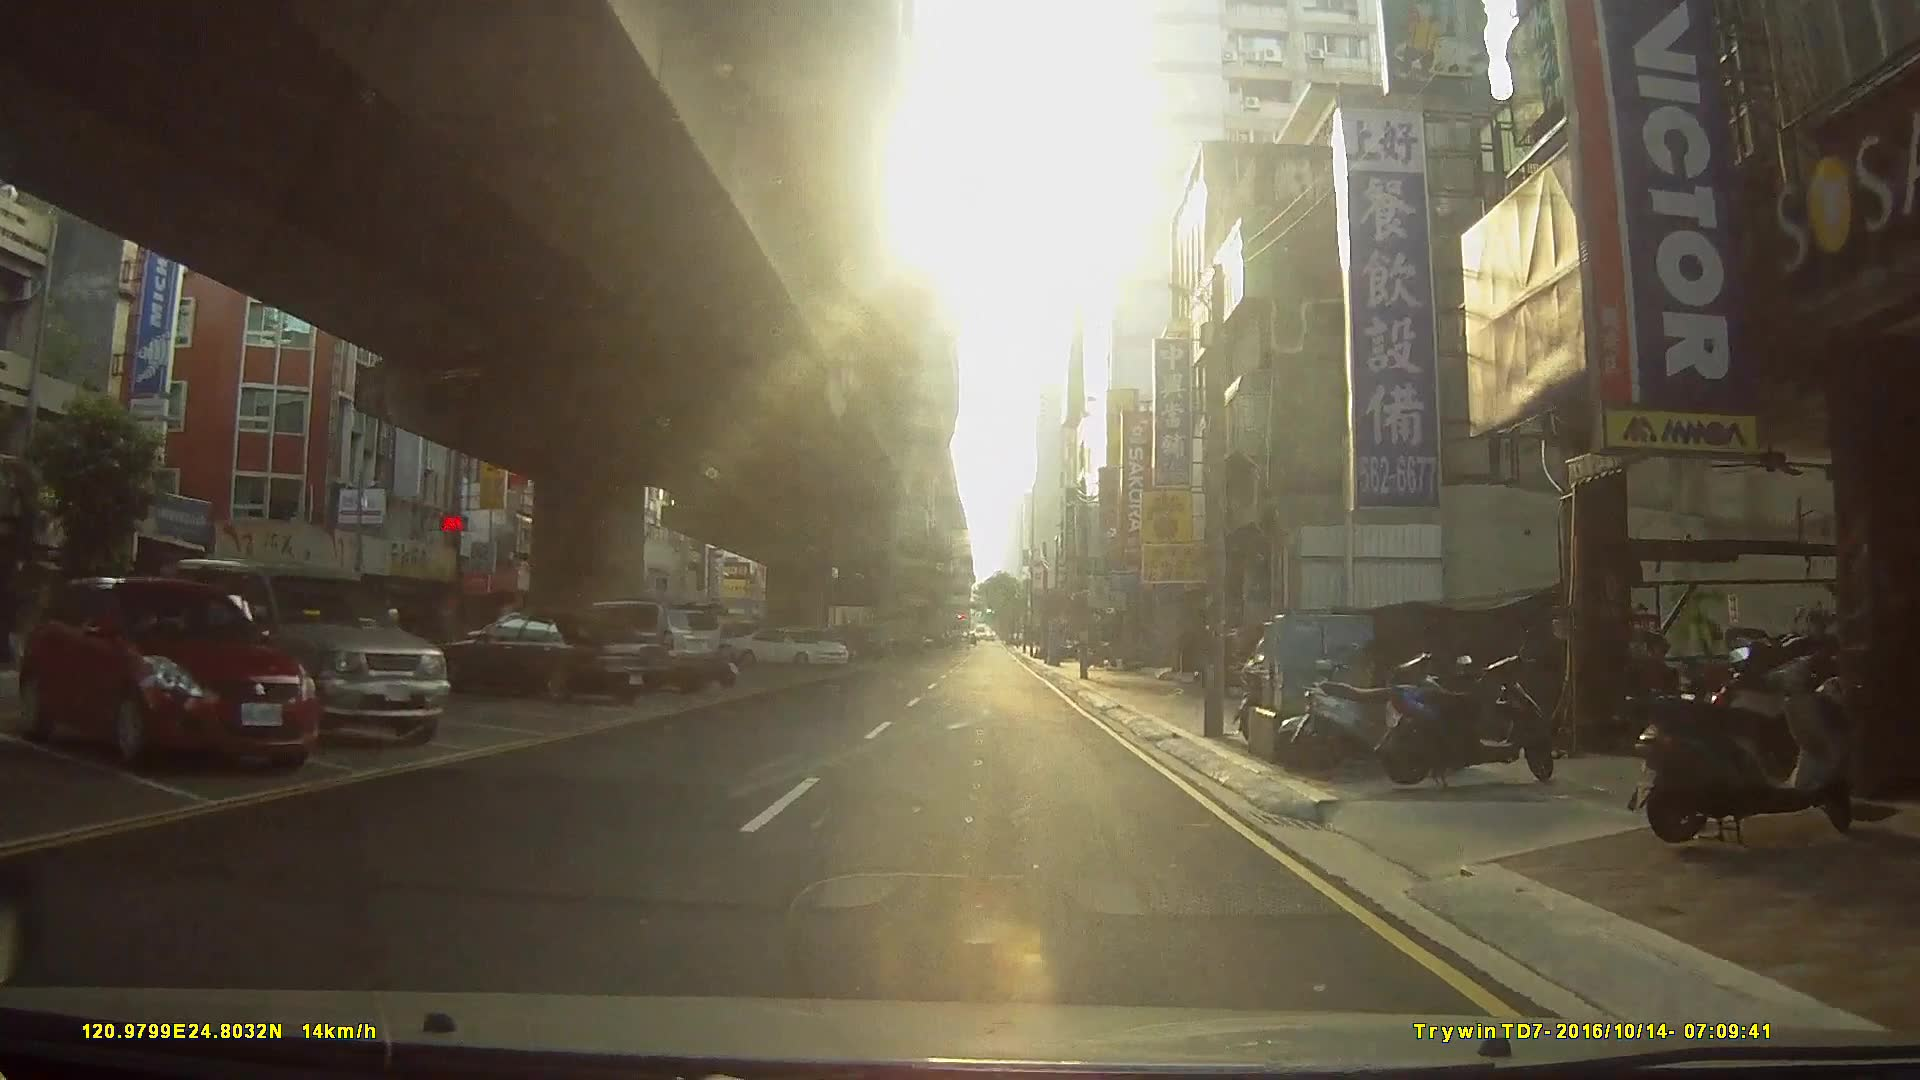vehicle: (18, 575, 319, 767), (165, 555, 450, 752), (444, 611, 673, 705), (558, 597, 724, 694), (729, 626, 851, 670)
